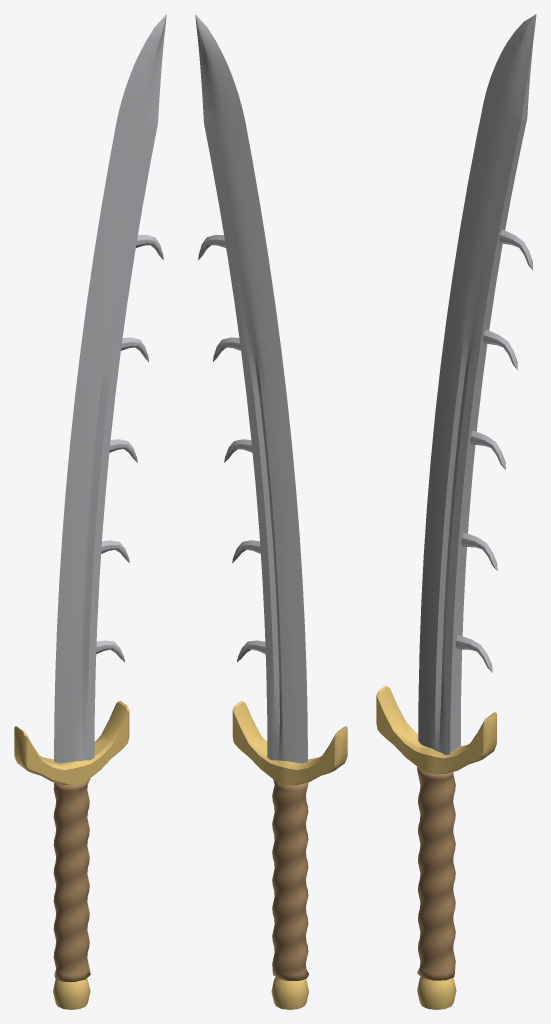
Rendered from elven-thornblade.glb.
The picture shows the model from 3 angles, left to right: view 1: azimuth 30°, elevation 25°; view 2: azimuth 150°, elevation 25°; view 3: azimuth 330°, elevation 25°; orthographic projection. The views are drawn at different scales.
Visible parts, largest first — view 1: elven-thornblade; view 2: elven-thornblade; view 3: elven-thornblade.
Boxes of the visible parts, x1,y1,x2,y2 form: elven-thornblade: (14, 14, 166, 1009); elven-thornblade: (195, 14, 347, 1009); elven-thornblade: (376, 14, 536, 1009).
Size of the model in its own units: 0.3028 by 1.88 by 0.066.
